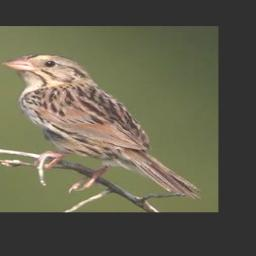Sparrow: (1, 52, 197, 198)
